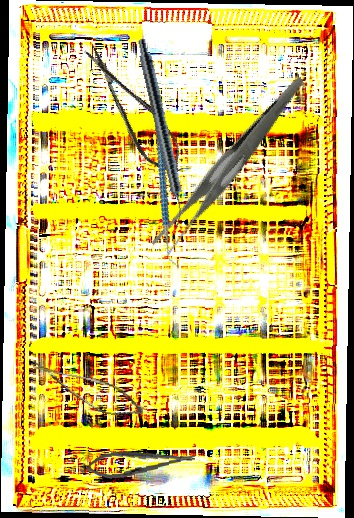Chopper: (115, 100, 219, 271)
Dressing Forceps: (118, 76, 344, 260)
Handpiece: (131, 37, 192, 228)
Micro Scissor: (77, 35, 191, 184), (25, 361, 149, 421)
Needle Holder: (84, 444, 197, 482)
